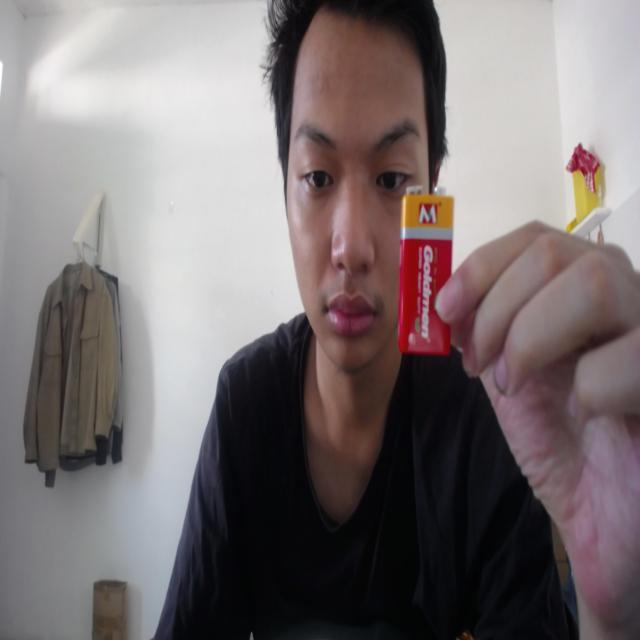hazardous waste: (394, 171, 462, 367)
